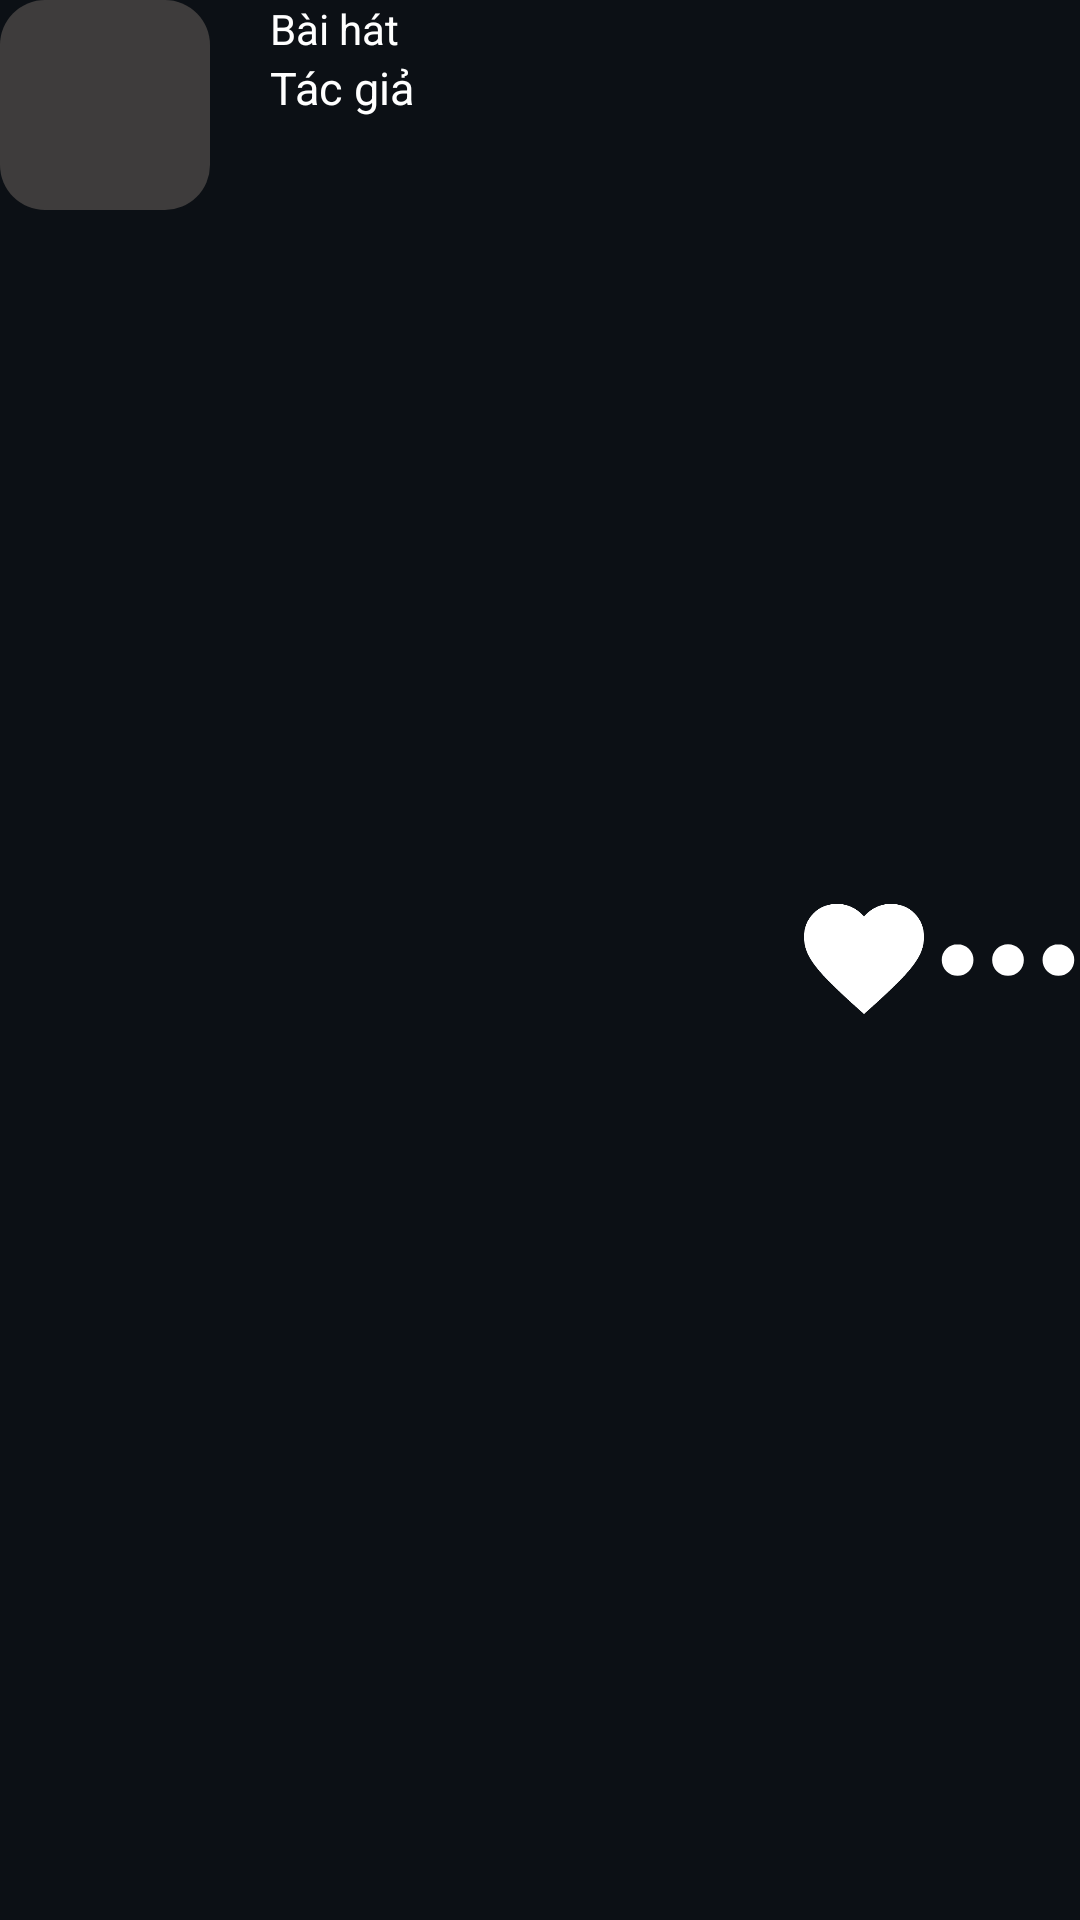

Where icons sit on this 1080×1920 app screen, as {"left": x1, "top": y1, "right": x2, "bottom": y2}:
heart: {"left": 804, "top": 904, "right": 924, "bottom": 1014}
three dots: {"left": 941, "top": 944, "right": 1075, "bottom": 976}
